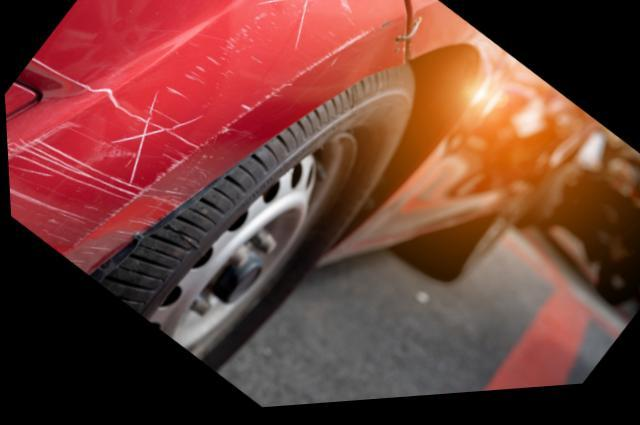scratch: (6, 0, 375, 275)
